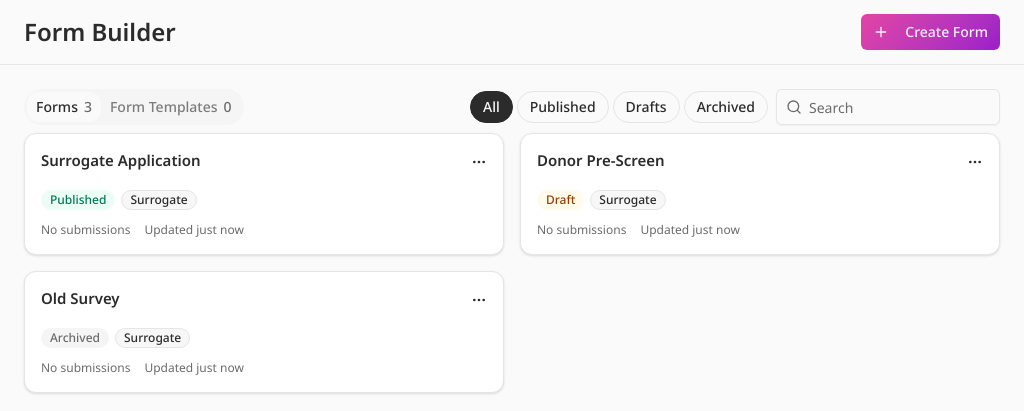
it: FormsListPage delete › filters forms by status and search without hiding the first-run state
The width and height of the screenshot is (1024, 411).
Click the button "Drafts" at {"x": 646, "y": 107}, box [613,91,680,123]
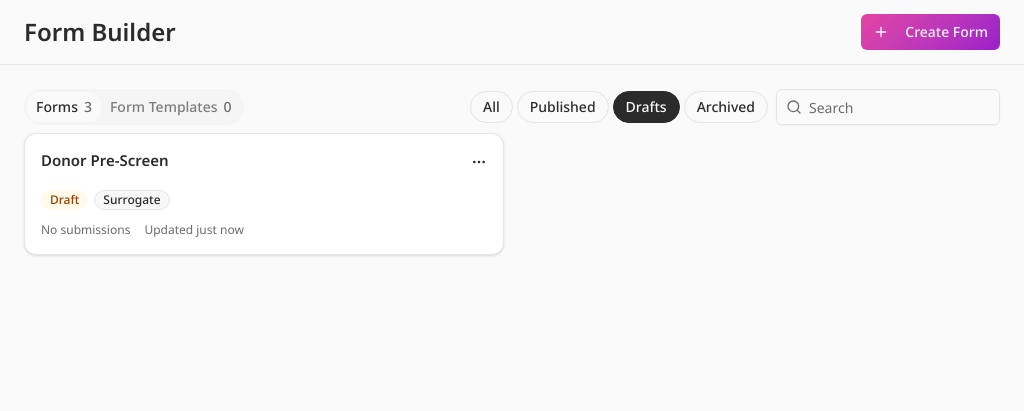
expect the link "Donor Pre-Screen" is shown: met, box [41,150,169,170]
expect the link "Surrogate Application" is gone: met
Click the button "All" at {"x": 491, "y": 107}, box [470,91,513,123]
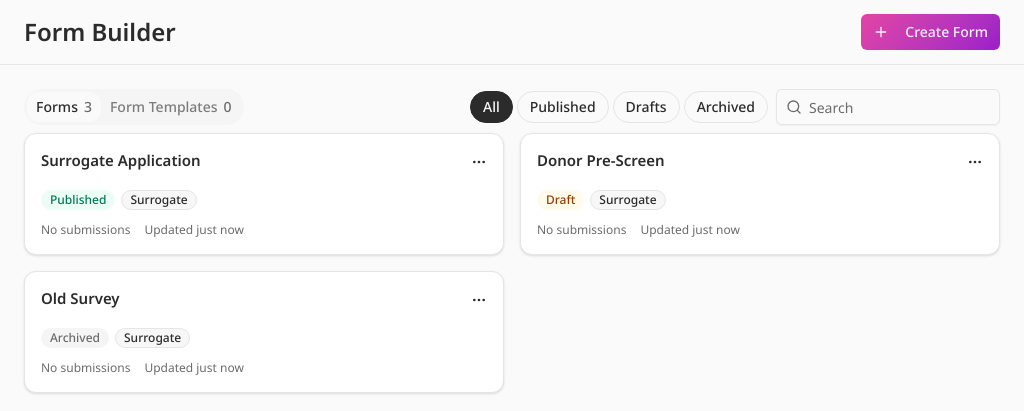
Type "survey" into the search field named "Search forms" at {"x": 888, "y": 107}, box [776,89,1000,125]
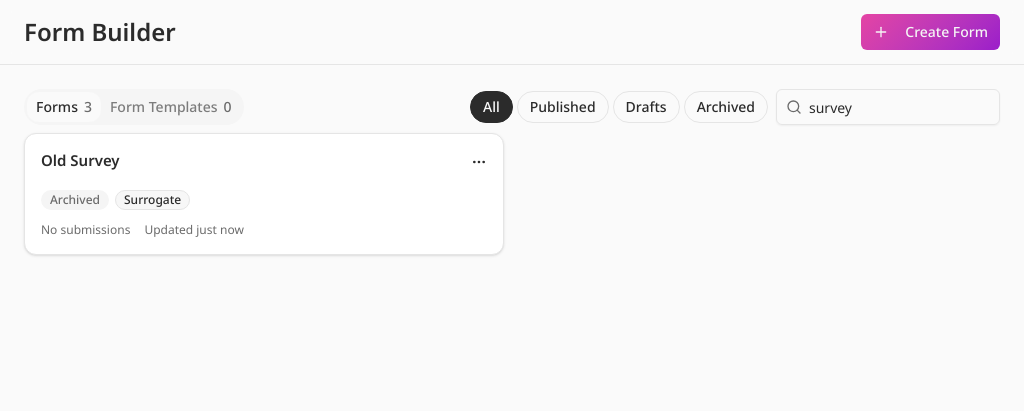
expect the link "Old Survey" is shown: met, box [41,150,120,170]
expect the link "Donor Pre-Screen" is gone: met
Replace the text in the search field named "Search forms" with "missing" at {"x": 888, "y": 107}, box [776,89,1000,125]
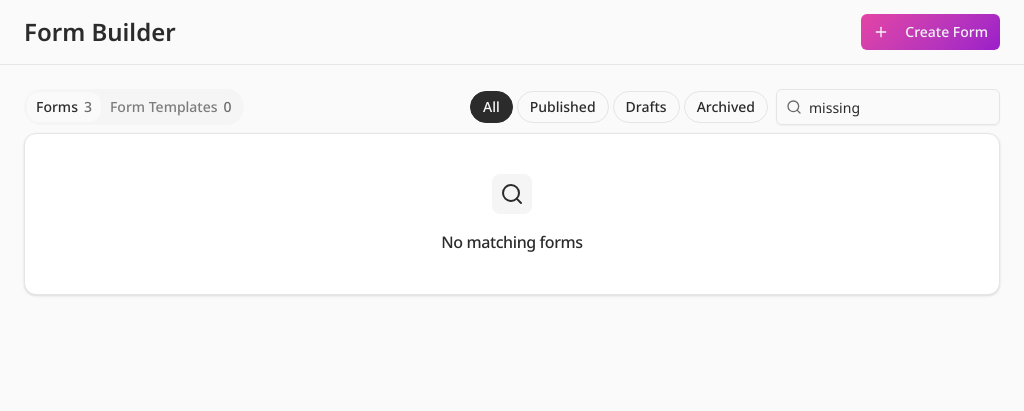
expect the heading "No matching forms" is shown: met, box [441,230,583,254]
